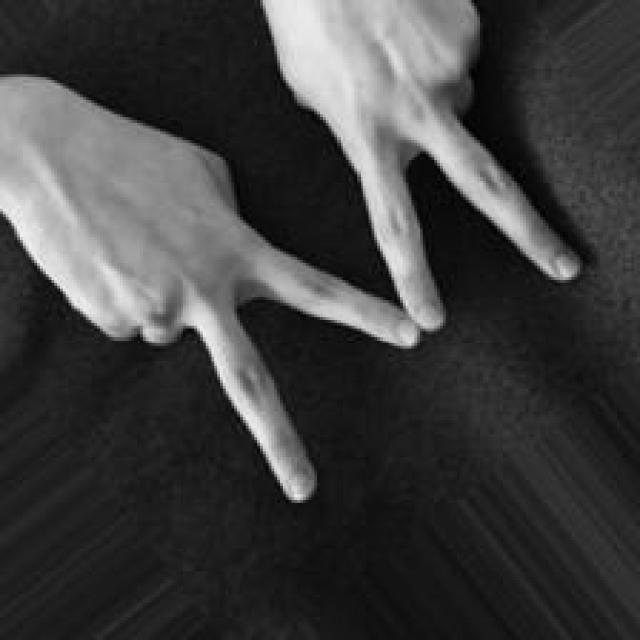M: (0, 0, 583, 501)
